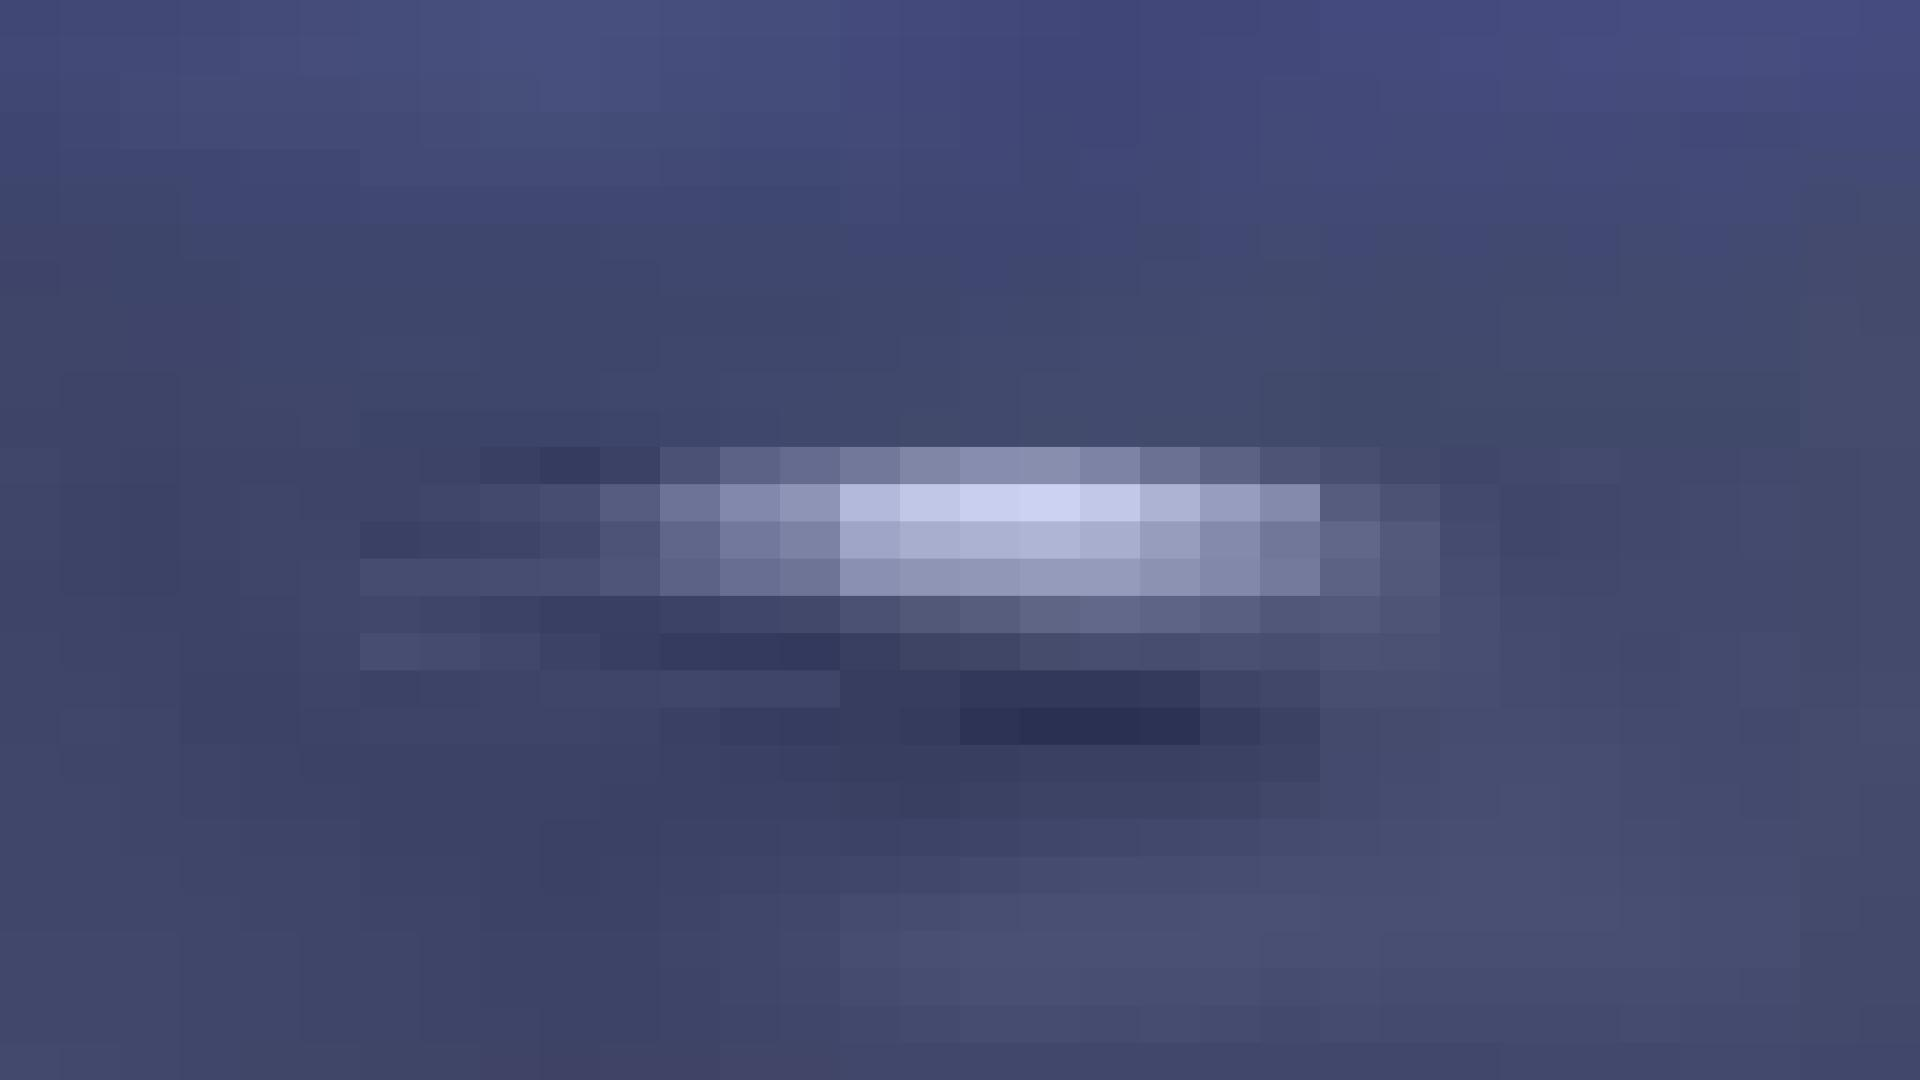Squash-Ball: (0, 37, 1920, 1080)
